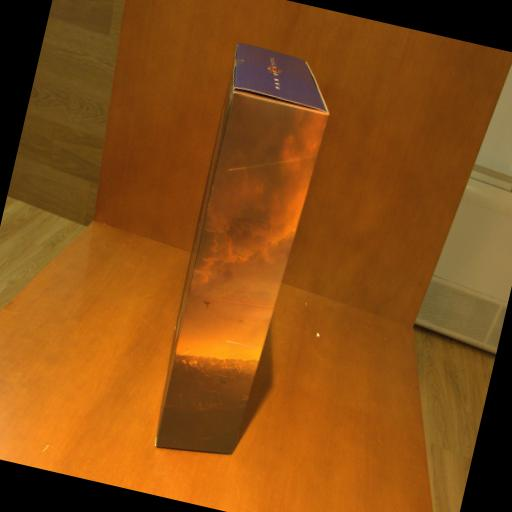superman: (146, 42, 340, 466)
